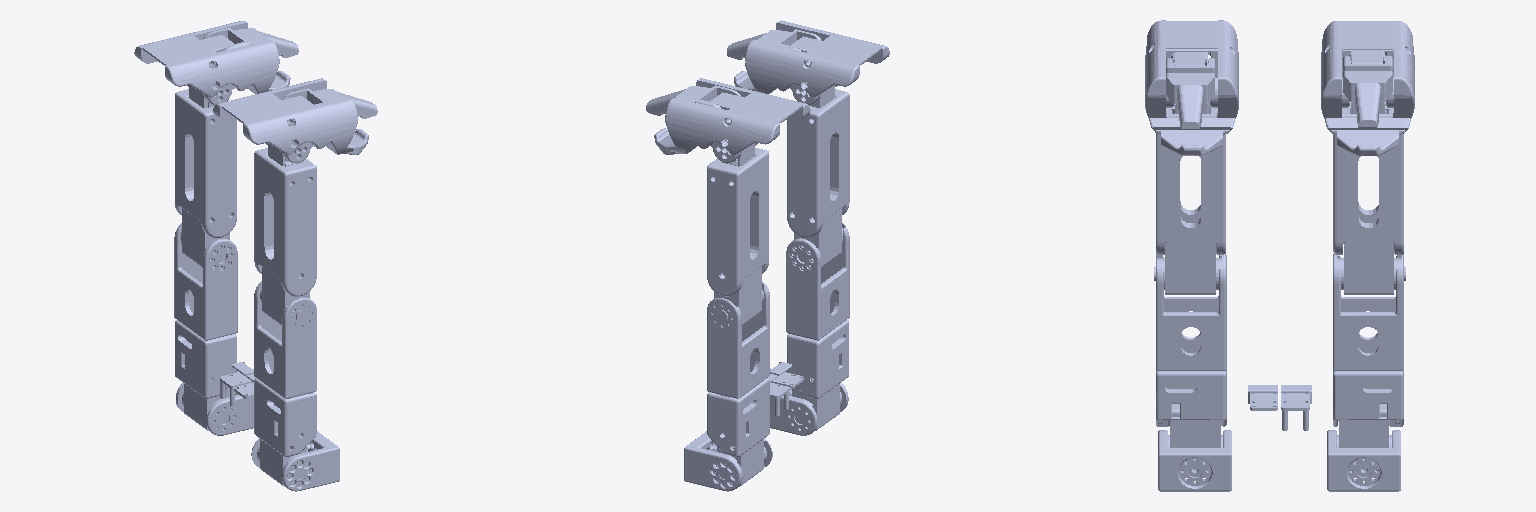
URDF robot description (axisnewbipedal):
<?xml version="1.0" encoding="utf-8"?>
<!-- This URDF was automatically created by SolidWorks to URDF Exporter! Originally created by Stephen Brawner (brawner@gmail.com) 
     Commit Version: 1.6.0-4-g7f85cfe  Build Version: 1.6.7995.38578
     For more information, please see http://wiki.ros.org/sw_urdf_exporter -->
<robot
  name="axisnewbipedal">
  <link
    name="Baselink">
    <inertial>
      <origin
        xyz="0.0121195610615885 -0.00045414700170382 0.032112087923575"
        rpy="0 0 0" />
      <mass
        value="1.79873529531539" />
      <inertia
        ixx="0.0030430512563841"
        ixy="-7.99243553046834E-07"
        ixz="-4.79495467156078E-06"
        iyy="0.00405280791590414"
        iyz="-1.14391361988419E-05"
        izz="0.00598666141833636" />
    </inertial>
    <visual>
      <origin
        xyz="0 0 0"
        rpy="0 0 0" />
      <geometry>
        <mesh
          filename="package://axisnewbipedal/meshes/Baselink.STL" />
      </geometry>
      <material
        name="">
        <color
          rgba="0.792156862745098 0.819607843137255 0.933333333333333 1" />
      </material>
    </visual>
    <collision>
      <origin
        xyz="0 0 0"
        rpy="0 0 0" />
      <geometry>
        <mesh
          filename="package://axisnewbipedal/meshes/Baselink.STL" />
      </geometry>
    </collision>
  </link>
  <link
    name="IMUleft">
    <inertial>
      <origin
        xyz="-0.00129188191927912 4.07733683330247E-06 -0.00236819206124636"
        rpy="0 0 0" />
      <mass
        value="0.00446702174268276" />
      <inertia
        ixx="6.84231434995655E-07"
        ixy="4.56208858048438E-10"
        ixz="1.64296770524199E-08"
        iyy="3.7604239998383E-07"
        iyz="8.90632927329668E-11"
        izz="9.07500911120845E-07" />
    </inertial>
    <visual>
      <origin
        xyz="0 0 0"
        rpy="0 0 0" />
      <geometry>
        <mesh
          filename="package://axisnewbipedal/meshes/IMUleft.STL" />
      </geometry>
      <material
        name="">
        <color
          rgba="0.792156862745098 0.819607843137255 0.933333333333333 1" />
      </material>
    </visual>
    <collision>
      <origin
        xyz="0 0 0"
        rpy="0 0 0" />
      <geometry>
        <mesh
          filename="package://axisnewbipedal/meshes/IMUleft.STL" />
      </geometry>
    </collision>
  </link>
  <joint
    name="IMUleft_joint"
    type="fixed">
    <origin
      xyz="-2.35848873947619E-05 -0.015000020755498 0.0851"
      rpy="0 0 1.5707963267949" />
    <parent
      link="Baselink" />
    <child
      link="IMUleft" />
    <axis
      xyz="0 0 0" />
  </joint>
  <link
    name="IMUright">
    <inertial>
      <origin
        xyz="0.000870135893543372 -6.27414425968809E-09 -0.0067251282073453"
        rpy="0 0 0" />
      <mass
        value="0.00662926531667998" />
      <inertia
        ixx="1.90880432962874E-06"
        ixy="4.68983873418751E-13"
        ixz="-4.15673471632752E-08"
        iyy="9.54365098136334E-07"
        iyz="4.16933580411647E-13"
        izz="1.99900689159998E-06" />
    </inertial>
    <visual>
      <origin
        xyz="0 0 0"
        rpy="0 0 0" />
      <geometry>
        <mesh
          filename="package://axisnewbipedal/meshes/IMUright.STL" />
      </geometry>
      <material
        name="">
        <color
          rgba="0.792156862745098 0.819607843137255 0.933333333333333 1" />
      </material>
    </visual>
    <collision>
      <origin
        xyz="0 0 0"
        rpy="0 0 0" />
      <geometry>
        <mesh
          filename="package://axisnewbipedal/meshes/IMUright.STL" />
      </geometry>
    </collision>
  </link>
  <joint
    name="IMUright_joint"
    type="fixed">
    <origin
      xyz="0 0.0149999999999998 0.0851"
      rpy="0 0 1.5707963267949" />
    <parent
      link="Baselink" />
    <child
      link="IMUright" />
    <axis
      xyz="0 0 0" />
  </joint>
  <link
    name="Bubleft">
    <inertial>
      <origin
        xyz="0.000710752599830389 1.81785287933778E-08 0.0169536763899823"
        rpy="0 0 0" />
      <mass
        value="0.0588145797321857" />
      <inertia
        ixx="2.46815692806483E-05"
        ixy="1.50045890633806E-11"
        ixz="-1.48525751292975E-06"
        iyy="5.59461103392955E-05"
        iyz="-1.75224139464006E-11"
        izz="4.85525566915953E-05" />
    </inertial>
    <visual>
      <origin
        xyz="0 0 0"
        rpy="0 0 0" />
      <geometry>
        <mesh
          filename="package://axisnewbipedal/meshes/Bubleft.STL" />
      </geometry>
      <material
        name="">
        <color
          rgba="0.792156862745098 0.819607843137255 0.933333333333333 1" />
      </material>
    </visual>
    <collision>
      <origin
        xyz="0 0 0"
        rpy="0 0 0" />
      <geometry>
        <mesh
          filename="package://axisnewbipedal/meshes/Bubleft.STL" />
      </geometry>
    </collision>
  </link>
  <joint
    name="Bubleft_joint"
    type="revolute">
    <origin
      xyz="0.04025 -0.0799500000000004 0.0228999999999999"
      rpy="1.5707963267949 0 -1.5707963267949" />
    <parent
      link="Baselink" />
    <child
      link="Bubleft" />
    <axis
      xyz="0 0 1" />
    <limit
      lower="0"
      upper="0"
      effort="0"
      velocity="0" />
  </joint>
  <link
    name="Hipleft">
    <inertial>
      <origin
        xyz="-0.00042050534546903 0.00251976943574571 -0.0421972616591183"
        rpy="0 0 0" />
      <mass
        value="0.226261634433227" />
      <inertia
        ixx="0.000137472901154741"
        ixy="4.88881585039156E-07"
        ixz="3.11903803638425E-06"
        iyy="8.86233207220475E-05"
        iyz="-7.23481904337154E-06"
        izz="9.77025986114852E-05" />
    </inertial>
    <visual>
      <origin
        xyz="0 0 0"
        rpy="0 0 0" />
      <geometry>
        <mesh
          filename="package://axisnewbipedal/meshes/Hipleft.STL" />
      </geometry>
      <material
        name="">
        <color
          rgba="0.792156862745098 0.819607843137255 0.933333333333333 1" />
      </material>
    </visual>
    <collision>
      <origin
        xyz="0 0 0"
        rpy="0 0 0" />
      <geometry>
        <mesh
          filename="package://axisnewbipedal/meshes/Hipleft.STL" />
      </geometry>
    </collision>
  </link>
  <joint
    name="Hipleft_joint"
    type="revolute">
    <origin
      xyz="-0.000300000000000342 0 0.04695"
      rpy="1.5707963267949 1.5707963267949 0" />
    <parent
      link="Bubleft" />
    <child
      link="Hipleft" />
    <axis
      xyz="0 -1 0" />
    <limit
      lower="0"
      upper="0"
      effort="0"
      velocity="0" />
  </joint>
  <link
    name="Rotate_left">
    <inertial>
      <origin
        xyz="-0.00397214684050922 -1.07075881772278E-08 -0.0346181318611727"
        rpy="0 0 0" />
      <mass
        value="0.0860125684597943" />
      <inertia
        ixx="8.11471763830618E-05"
        ixy="1.42661208664027E-11"
        ixz="2.909549419978E-06"
        iyy="0.000122098911317256"
        iyz="-7.29973827335826E-12"
        izz="7.28979465570447E-05" />
    </inertial>
    <visual>
      <origin
        xyz="0 0 0"
        rpy="0 0 0" />
      <geometry>
        <mesh
          filename="package://axisnewbipedal/meshes/Rotate_left.STL" />
      </geometry>
      <material
        name="">
        <color
          rgba="0.792156862745098 0.819607843137255 0.933333333333333 1" />
      </material>
    </visual>
    <collision>
      <origin
        xyz="0 0 0"
        rpy="0 0 0" />
      <geometry>
        <mesh
          filename="package://axisnewbipedal/meshes/Rotate_left.STL" />
      </geometry>
    </collision>
  </link>
  <joint
    name="Nhat_rotate_left"
    type="revolute">
    <origin
      xyz="0.000100000000000128 -0.000299999999999932 -0.0961"
      rpy="0 0 -1.5707963267949" />
    <parent
      link="Hipleft" />
    <child
      link="Rotate_left" />
    <axis
      xyz="0 0 -1" />
    <limit
      lower="0"
      upper="0"
      effort="0"
      velocity="0" />
  </joint>
  <link
    name="Kneeleft">
    <inertial>
      <origin
        xyz="-9.08269444225007E-05 -0.0847882248405136 -1.99919391926859E-05"
        rpy="0 0 0" />
      <mass
        value="0.337644934503235" />
      <inertia
        ixx="0.000508986805699051"
        ixy="6.50836667253898E-13"
        ixz="2.62168989491212E-12"
        iyy="0.000183877774809467"
        iyz="1.12174723661214E-06"
        izz="0.000412650811451325" />
    </inertial>
    <visual>
      <origin
        xyz="0 0 0"
        rpy="0 0 0" />
      <geometry>
        <mesh
          filename="package://axisnewbipedal/meshes/Kneeleft.STL" />
      </geometry>
      <material
        name="">
        <color
          rgba="0.792156862745098 0.819607843137255 0.933333333333333 1" />
      </material>
    </visual>
    <collision>
      <origin
        xyz="0 0 0"
        rpy="0 0 0" />
      <geometry>
        <mesh
          filename="package://axisnewbipedal/meshes/Kneeleft.STL" />
      </geometry>
    </collision>
  </link>
  <joint
    name="Kneeleft_joint"
    type="revolute">
    <origin
      xyz="-0.00479999999999999 0 -0.089"
      rpy="1.5707963267949 0 1.5707963267949" />
    <parent
      link="Rotate_left" />
    <child
      link="Kneeleft" />
    <axis
      xyz="0 0 1" />
    <limit
      lower="0"
      upper="0"
      effort="0"
      velocity="0" />
  </joint>
  <link
    name="Footleft">
    <inertial>
      <origin
        xyz="0.020473 -0.020682 -0.00042834"
        rpy="0 0 0" />
      <mass
        value="0.30253" />
      <inertia
        ixx="0.00028097"
        ixy="-8.5366E-05"
        ixz="4.3577E-07"
        iyy="0.00053075"
        iyz="1.0395E-08"
        izz="0.00040177" />
    </inertial>
    <visual>
      <origin
        xyz="0 0 0"
        rpy="0 0 0" />
      <geometry>
        <mesh
          filename="package://axisnewbipedal/meshes/Footleft.STL" />
      </geometry>
      <material
        name="">
        <color
          rgba="0.79216 0.81961 0.93333 1" />
      </material>
    </visual>
    <collision>
      <origin
        xyz="0 0 0"
        rpy="0 0 0" />
      <geometry>
        <mesh
          filename="package://axisnewbipedal/meshes/Footleft.STL" />
      </geometry>
    </collision>
  </link>
  <joint
    name="Footleft_joint"
    type="revolute">
    <origin
      xyz="-0.000299999999999939 -0.19 0.00125000000000003"
      rpy="0 0 0" />
    <parent
      link="Kneeleft" />
    <child
      link="Footleft" />
    <axis
      xyz="0 0 -1" />
    <limit
      lower="0"
      upper="0"
      effort="0"
      velocity="0" />
  </joint>
  <link
    name="Bubright">
    <inertial>
      <origin
        xyz="0.000710752599830416 -1.81785287378666E-08 -0.0169536763899823"
        rpy="0 0 0" />
      <mass
        value="0.0588145797321857" />
      <inertia
        ixx="2.46815692806484E-05"
        ixy="-1.50045890438722E-11"
        ixz="1.4852575129298E-06"
        iyy="5.59461103392956E-05"
        iyz="-1.75224139484085E-11"
        izz="4.85525566915954E-05" />
    </inertial>
    <visual>
      <origin
        xyz="0 0 0"
        rpy="0 0 0" />
      <geometry>
        <mesh
          filename="package://axisnewbipedal/meshes/Bubright.STL" />
      </geometry>
      <material
        name="">
        <color
          rgba="0.792156862745098 0.819607843137255 0.933333333333333 1" />
      </material>
    </visual>
    <collision>
      <origin
        xyz="0 0 0"
        rpy="0 0 0" />
      <geometry>
        <mesh
          filename="package://axisnewbipedal/meshes/Bubright.STL" />
      </geometry>
    </collision>
  </link>
  <joint
    name="Bubright_joint"
    type="revolute">
    <origin
      xyz="0.04025 0.07995 0.0229"
      rpy="1.5707963267949 0 1.5707963267949" />
    <parent
      link="Baselink" />
    <child
      link="Bubright" />
    <axis
      xyz="0 0 -1" />
    <limit
      lower="0"
      upper="0"
      effort="0"
      velocity="0" />
  </joint>
  <link
    name="Hipright">
    <inertial>
      <origin
        xyz="-0.00042378293263215 -0.00253740497219043 -0.0419718857147577"
        rpy="0 0 0" />
      <mass
        value="0.224852717179307" />
      <inertia
        ixx="0.000137437078521493"
        ixy="-4.88795888755109E-07"
        ixz="3.11909131459657E-06"
        iyy="8.858768302376E-05"
        iyz="7.23455158312816E-06"
        izz="9.76339620287306E-05" />
    </inertial>
    <visual>
      <origin
        xyz="0 0 0"
        rpy="0 0 0" />
      <geometry>
        <mesh
          filename="package://axisnewbipedal/meshes/Hipright.STL" />
      </geometry>
      <material
        name="">
        <color
          rgba="0.792156862745098 0.819607843137255 0.933333333333333 1" />
      </material>
    </visual>
    <collision>
      <origin
        xyz="0 0 0"
        rpy="0 0 0" />
      <geometry>
        <mesh
          filename="package://axisnewbipedal/meshes/Hipright.STL" />
      </geometry>
    </collision>
  </link>
  <joint
    name="Hipright_joint"
    type="revolute">
    <origin
      xyz="-0.00029999999999869 0 -0.04695"
      rpy="1.5707963267949 -1.5707963267949 0" />
    <parent
      link="Bubright" />
    <child
      link="Hipright" />
    <axis
      xyz="0 1 0" />
    <limit
      lower="0"
      upper="0"
      effort="0"
      velocity="0" />
  </joint>
  <link
    name="Rotate_right">
    <inertial>
      <origin
        xyz="0.00397214753942057 1.01134073893228E-08 -0.0346181311327085"
        rpy="0 0 0" />
      <mass
        value="0.0860125654516269" />
      <inertia
        ixx="8.11471741937285E-05"
        ixy="1.3190967686973E-11"
        ixz="-2.90954813510552E-06"
        iyy="0.000122098908774383"
        iyz="6.21911415279255E-12"
        izz="7.2897944395315E-05" />
    </inertial>
    <visual>
      <origin
        xyz="0 0 0"
        rpy="0 0 0" />
      <geometry>
        <mesh
          filename="package://axisnewbipedal/meshes/Rotate_right.STL" />
      </geometry>
      <material
        name="">
        <color
          rgba="0.792156862745098 0.819607843137255 0.933333333333333 1" />
      </material>
    </visual>
    <collision>
      <origin
        xyz="0 0 0"
        rpy="0 0 0" />
      <geometry>
        <mesh
          filename="package://axisnewbipedal/meshes/Rotate_right.STL" />
      </geometry>
    </collision>
  </link>
  <joint
    name="rotate_right"
    type="revolute">
    <origin
      xyz="9.99999999999612E-05 0.000299999999999689 -0.0961"
      rpy="0 0 -1.5707963267949" />
    <parent
      link="Hipright" />
    <child
      link="Rotate_right" />
    <axis
      xyz="0 0 -1" />
    <limit
      lower="0"
      upper="0"
      effort="0"
      velocity="0" />
  </joint>
  <link
    name="Kneeright">
    <inertial>
      <origin
        xyz="8.99507553574486E-05 -0.0843475112569392 9.14142904644838E-05"
        rpy="0 0 0" />
      <mass
        value="0.336236499067109" />
      <inertia
        ixx="0.000508951159286984"
        ixy="-6.48914915361512E-13"
        ixz="2.62168992654048E-12"
        iyy="0.000183842128436334"
        iyz="-1.12174723661202E-06"
        izz="0.000412582346317215" />
    </inertial>
    <visual>
      <origin
        xyz="0 0 0"
        rpy="0 0 0" />
      <geometry>
        <mesh
          filename="package://axisnewbipedal/meshes/Kneeright.STL" />
      </geometry>
      <material
        name="">
        <color
          rgba="0.792156862745098 0.819607843137255 0.933333333333333 1" />
      </material>
    </visual>
    <collision>
      <origin
        xyz="0 0 0"
        rpy="0 0 0" />
      <geometry>
        <mesh
          filename="package://axisnewbipedal/meshes/Kneeright.STL" />
      </geometry>
    </collision>
  </link>
  <joint
    name="Kneeright"
    type="revolute">
    <origin
      xyz="0.0050999999999999 0 -0.089"
      rpy="1.5707963267949 0 1.5707963267949" />
    <parent
      link="Rotate_right" />
    <child
      link="Kneeright" />
    <axis
      xyz="0 0 -1" />
    <limit
      lower="0"
      upper="0"
      effort="0"
      velocity="0" />
  </joint>
  <link
    name="Footright">
    <inertial>
      <origin
        xyz="0.0205877685678537 -0.0213895212689252 1.84951291865854E-05"
        rpy="0 0 0" />
      <mass
        value="0.302532642565086" />
      <inertia
        ixx="0.000280968016977903"
        ixy="-8.53656460661092E-05"
        ixz="4.35772758585093E-07"
        iyy="0.000530752960448646"
        iyz="1.0394500003033E-08"
        izz="0.000401765448104903" />
    </inertial>
    <visual>
      <origin
        xyz="0 0 0"
        rpy="0 0 0" />
      <geometry>
        <mesh
          filename="package://axisnewbipedal/meshes/Footright.STL" />
      </geometry>
      <material
        name="">
        <color
          rgba="0.792156862745098 0.819607843137255 0.933333333333333 1" />
      </material>
    </visual>
    <collision>
      <origin
        xyz="0 0 0"
        rpy="0 0 0" />
      <geometry>
        <mesh
          filename="package://axisnewbipedal/meshes/Footright.STL" />
      </geometry>
    </collision>
  </link>
  <joint
    name="Footright_joint"
    type="revolute">
    <origin
      xyz="0.000300000000000022 -0.19 -0.00105000000000002"
      rpy="0 0 0" />
    <parent
      link="Kneeright" />
    <child
      link="Footright" />
    <axis
      xyz="0 0 -1" />
    <limit
      lower="0"
      upper="0"
      effort="0"
      velocity="0" />
  </joint>
</robot>

--- What the picture shows (computed from the rendered views, not written in the file) ---
Views: 3 orthographic renders of the robot side by side, from view 1: azimuth 30°, elevation 25°; view 2: azimuth 150°, elevation 25°; view 3: azimuth 270°, elevation 25°.
Robot: axisnewbipedal — 13 links, 12 joints (10 revolute, 2 fixed); root link Baselink; default pose: all joints at 0.
Visible links, largest first — view 1: Kneeleft, Kneeright, Footleft, Footright, Rotate_right, Rotate_left, Hipleft, Hipright, Bubleft, Bubright, IMUright; view 2: Kneeright, Kneeleft, Footright, Footleft, Rotate_left, Rotate_right, Hipright, Hipleft, Bubright, Bubleft, IMUleft; view 3: Footleft, Footright, Kneeright, Kneeleft, Rotate_left, Rotate_right, Hipleft, Hipright, Bubright, Bubleft, IMUright, IMUleft.
Boxes of the visible links, left/top/right/bottom form: Kneeleft: left=254, top=143, right=316, bottom=326; Kneeright: left=175, top=85, right=236, bottom=267; Footleft: left=213, top=78, right=377, bottom=162; Footright: left=134, top=21, right=298, bottom=104; Rotate_right: left=174, top=223, right=237, bottom=340; Rotate_left: left=254, top=281, right=316, bottom=398; Hipleft: left=254, top=378, right=316, bottom=486; Hipright: left=175, top=320, right=236, bottom=430; Bubleft: left=251, top=431, right=339, bottom=491; Bubright: left=176, top=383, right=253, bottom=435; IMUright: left=220, top=362, right=253, bottom=405; Kneeright: left=707, top=143, right=768, bottom=326; Kneeleft: left=787, top=85, right=849, bottom=267; Footright: left=646, top=78, right=810, bottom=162; Footleft: left=727, top=20, right=889, bottom=104; Rotate_left: left=786, top=223, right=849, bottom=340; Rotate_right: left=707, top=281, right=769, bottom=398; Hipright: left=707, top=378, right=769, bottom=486; Hipleft: left=787, top=320, right=848, bottom=430; Bubright: left=684, top=431, right=772, bottom=491; Bubleft: left=770, top=383, right=848, bottom=435; IMUleft: left=770, top=362, right=803, bottom=387; Footleft: left=1145, top=20, right=1238, bottom=155; Footright: left=1321, top=21, right=1414, bottom=155; Kneeright: left=1333, top=102, right=1405, bottom=294; Kneeleft: left=1154, top=102, right=1225, bottom=294; Rotate_left: left=1156, top=254, right=1226, bottom=370; Rotate_right: left=1333, top=254, right=1403, bottom=370; Hipleft: left=1156, top=369, right=1226, bottom=470; Hipright: left=1333, top=370, right=1403, bottom=470; Bubright: left=1327, top=430, right=1400, bottom=491; Bubleft: left=1158, top=430, right=1231, bottom=491; IMUright: left=1281, top=385, right=1311, bottom=430; IMUleft: left=1248, top=385, right=1277, bottom=410.
Size in the robot's own frame: 0.1729 by 0.2553 by 0.4412 metres.
12 mesh visuals loaded from 13 distinct referenced files (12 binary STL); not drawn: 1 (reference not matched to a file when rendering).
